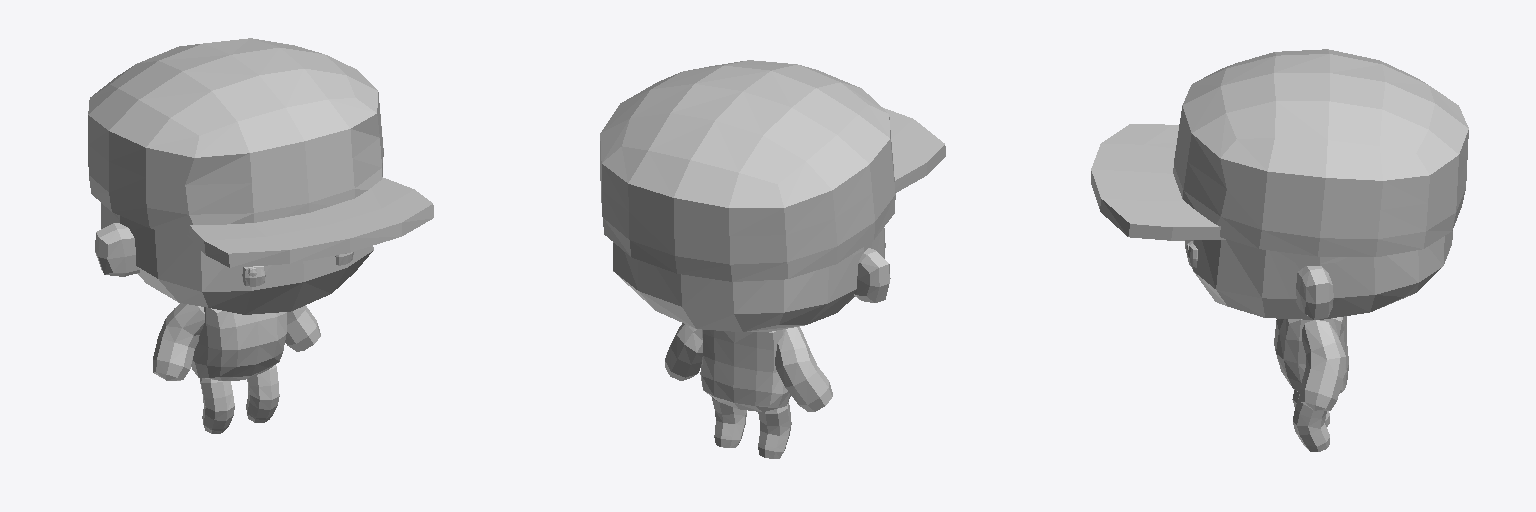
The model's file is idle_0002.obj.
3 renders of one model, left to right at view 1: azimuth 30°, elevation 25°; view 2: azimuth 150°, elevation 25°; view 3: azimuth 270°, elevation 25°, orthographic.
Visible parts, largest first — view 1: Object_41, Object_42, Object_36, Object_44, Object_38; view 2: Object_41, Object_36, Object_44, Object_42; view 3: Object_41, Object_36, Object_42, Object_44.
Part boxes in pixels (x1,y1,x2,y2): Object_41: (88, 38, 383, 235); Object_42: (185, 114, 433, 267); Object_36: (95, 203, 373, 314); Object_44: (153, 303, 320, 433); Object_38: (242, 252, 353, 286); Object_41: (600, 60, 895, 281); Object_36: (613, 228, 890, 331); Object_44: (665, 323, 832, 458); Object_42: (882, 107, 945, 192); Object_41: (1182, 49, 1468, 256); Object_36: (1185, 231, 1452, 319); Object_42: (1091, 106, 1226, 240); Object_44: (1274, 316, 1348, 451).
Size of the model in its own units: 0.9691 by 1.21 by 1.13.